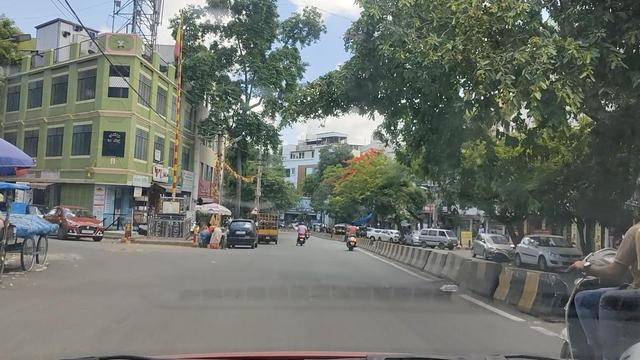LMV: (231, 216, 258, 248)
